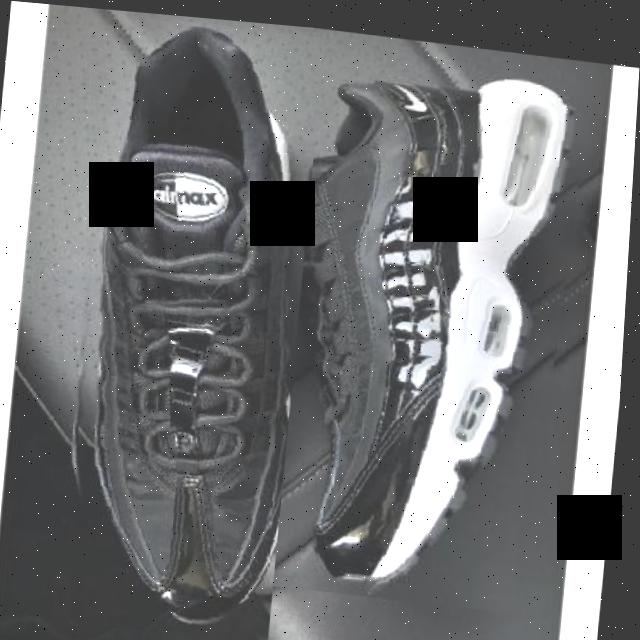shoe: (259, 34, 593, 610), (44, 7, 325, 640)
